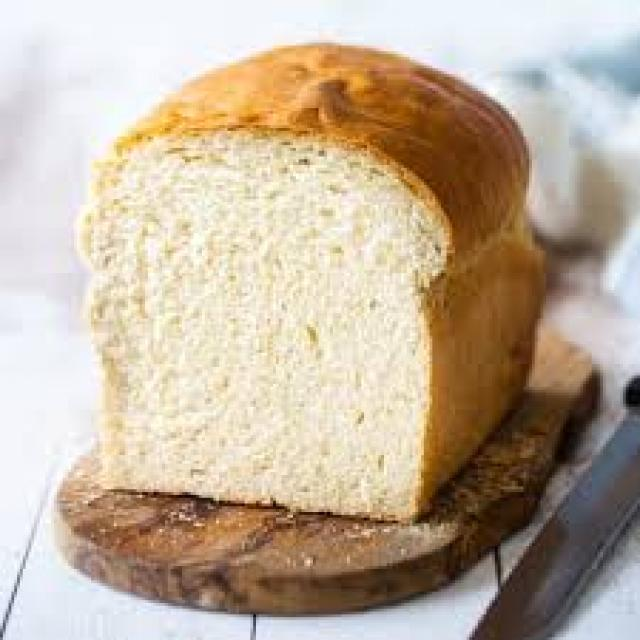bread: (81, 42, 537, 521)
